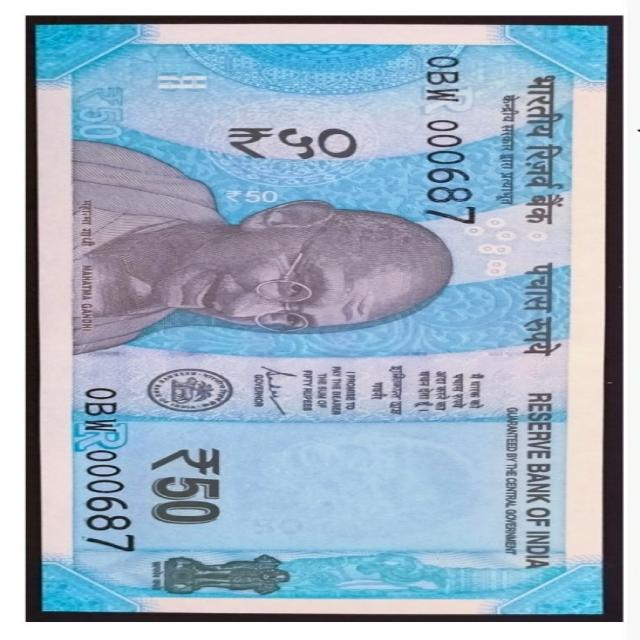50IndianRupees: (25, 22, 597, 625)
